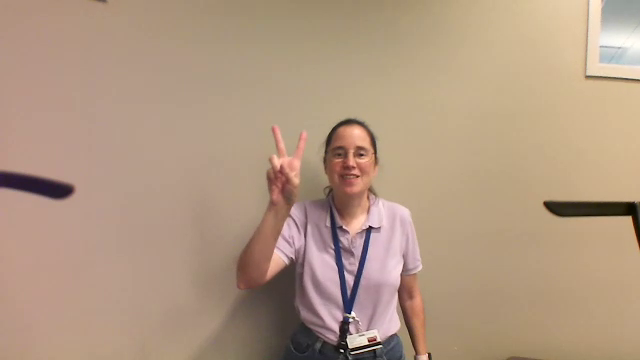peace: (249, 117, 316, 206)
